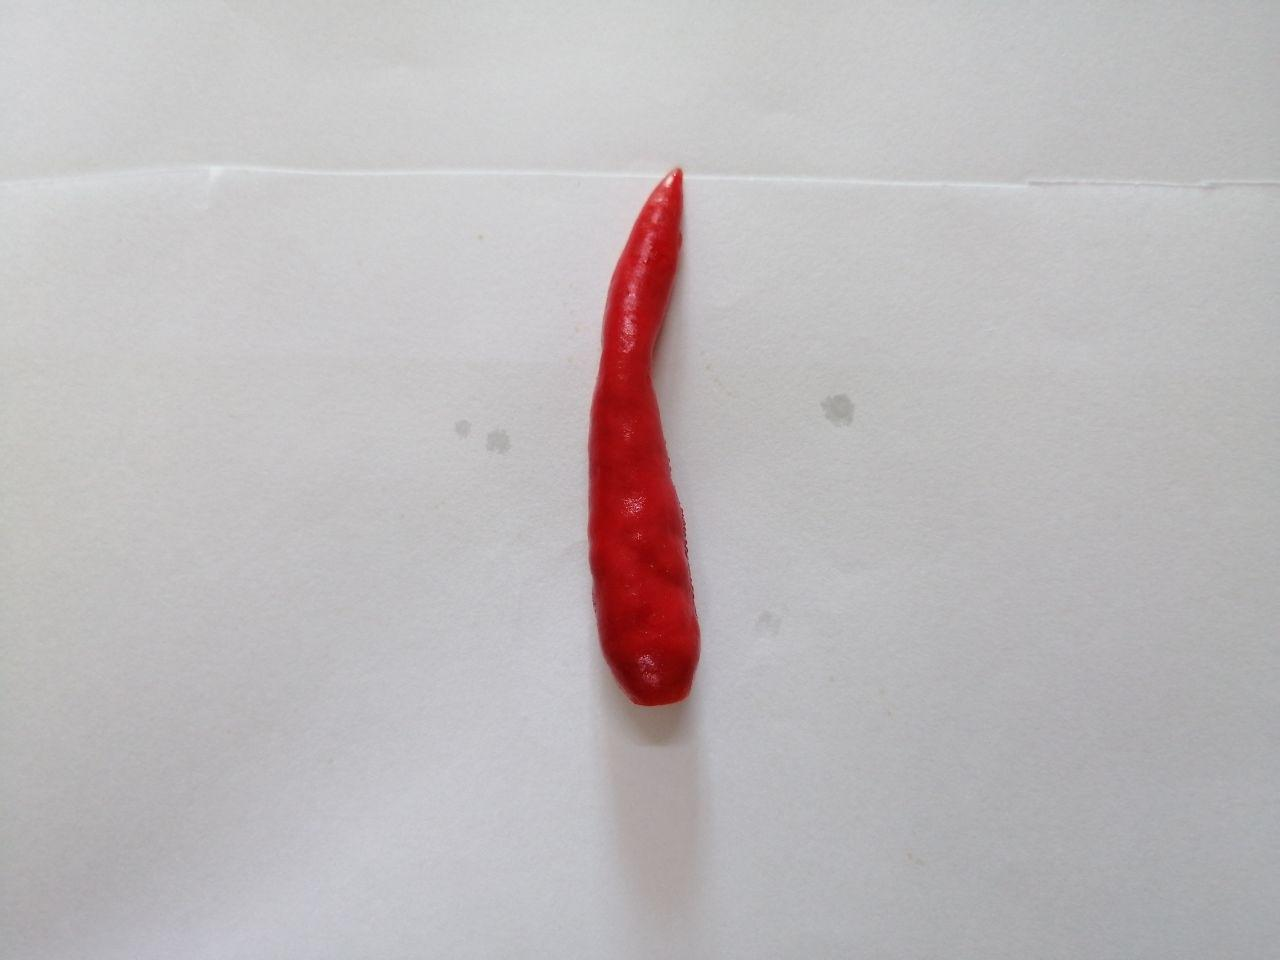lada merah: (555, 149, 750, 706)
